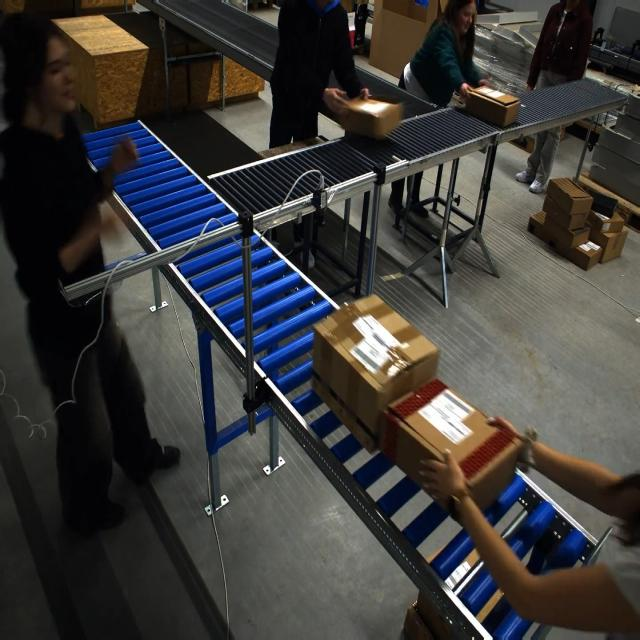box: (380, 386, 519, 506), (319, 308, 425, 434), (339, 95, 398, 140), (463, 84, 520, 127)
